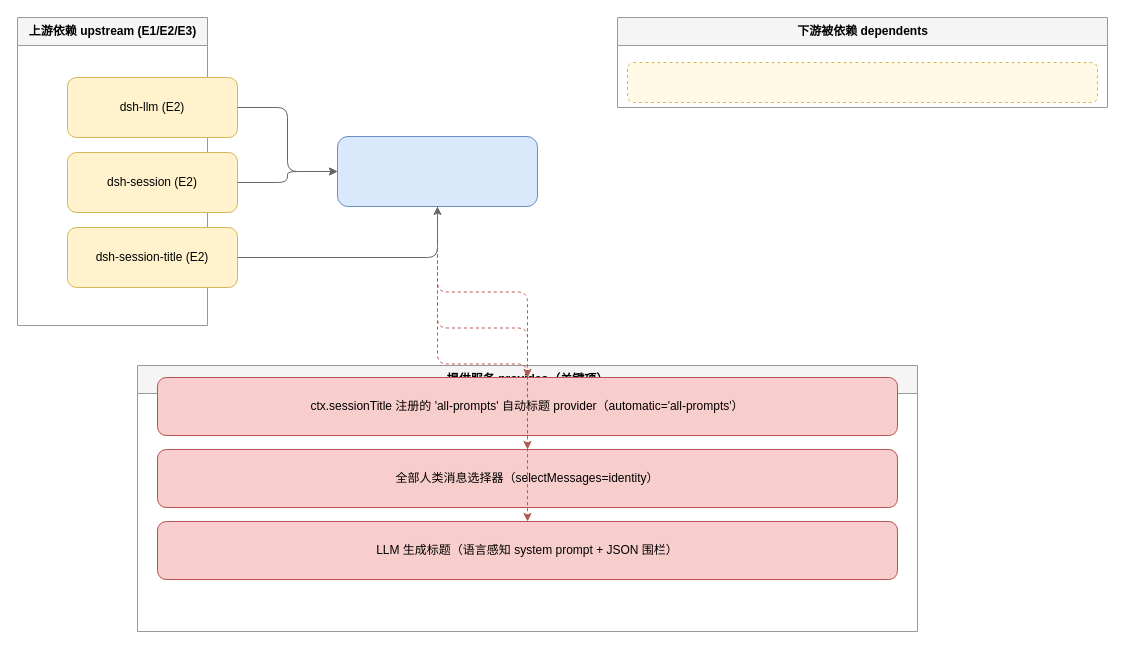
This 1125x649 diagram has some shape labels left out. The shapes that lost their labels are listed below. From the top down, each one's centre as x and y in pixels, then its label:
point 862,82: … 无下游依赖（L3 扩展点，共 0 个）
point 437,171: @deepseek-ai/dsh-session-title-all-prompts-llm
